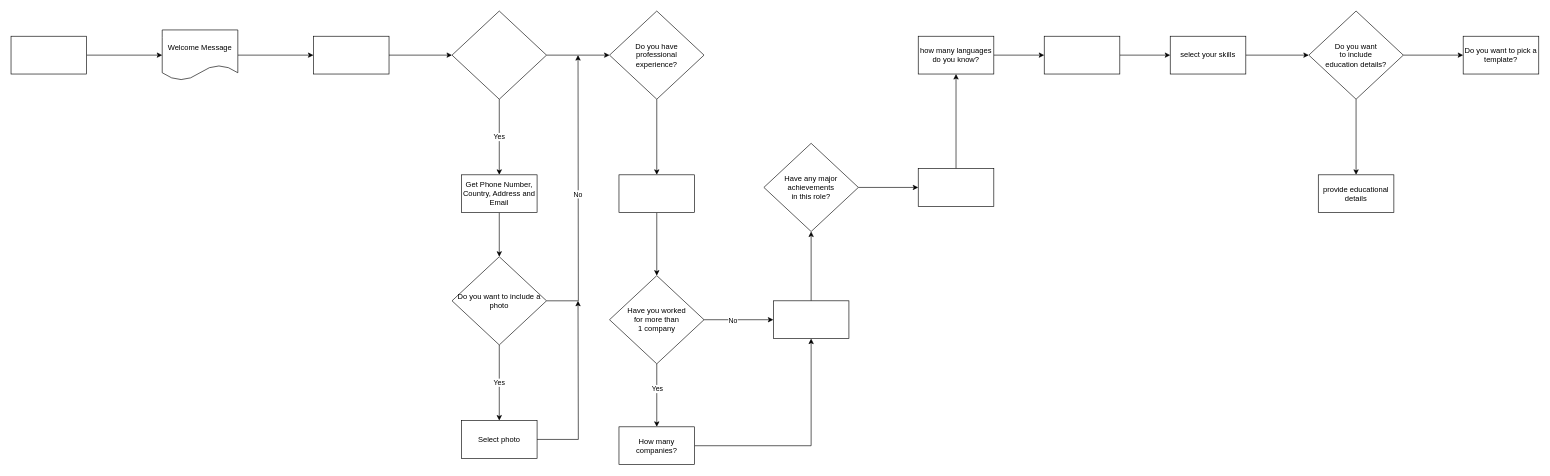
Image size: 1550x476. Some labels were removed from this diagram. The centre of each missing label's shape, as x and y in pixels:
"Company Details and Role" belongs at (x=811, y=319).
"Do you want to include contact details in resume?" belongs at (x=499, y=54).
"Get Full Name" belongs at (x=48, y=55).
"How many years of experience?" belongs at (x=656, y=193).
"language details" belongs at (x=1082, y=55).
"List the achievements in each role" belongs at (x=956, y=187).
"Select your role" belongs at (x=351, y=55).
